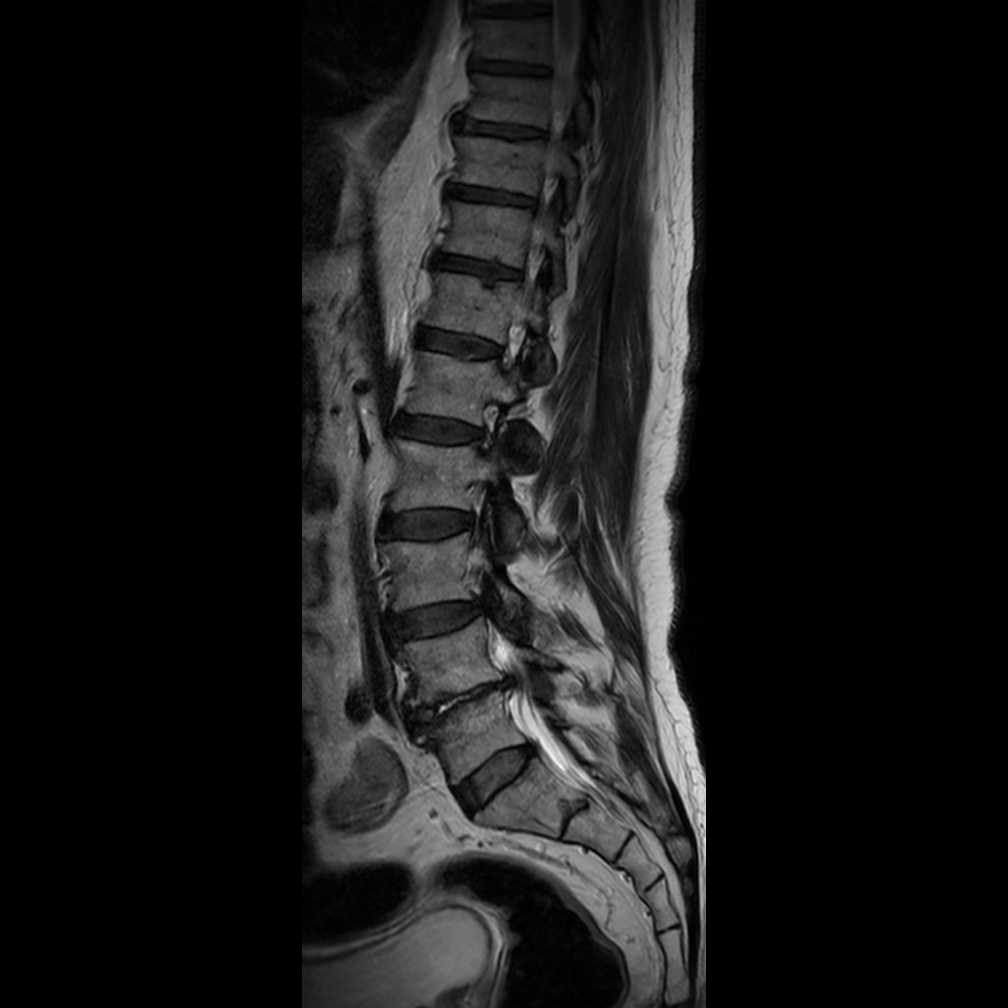RFS1: (463, 388, 513, 467)
